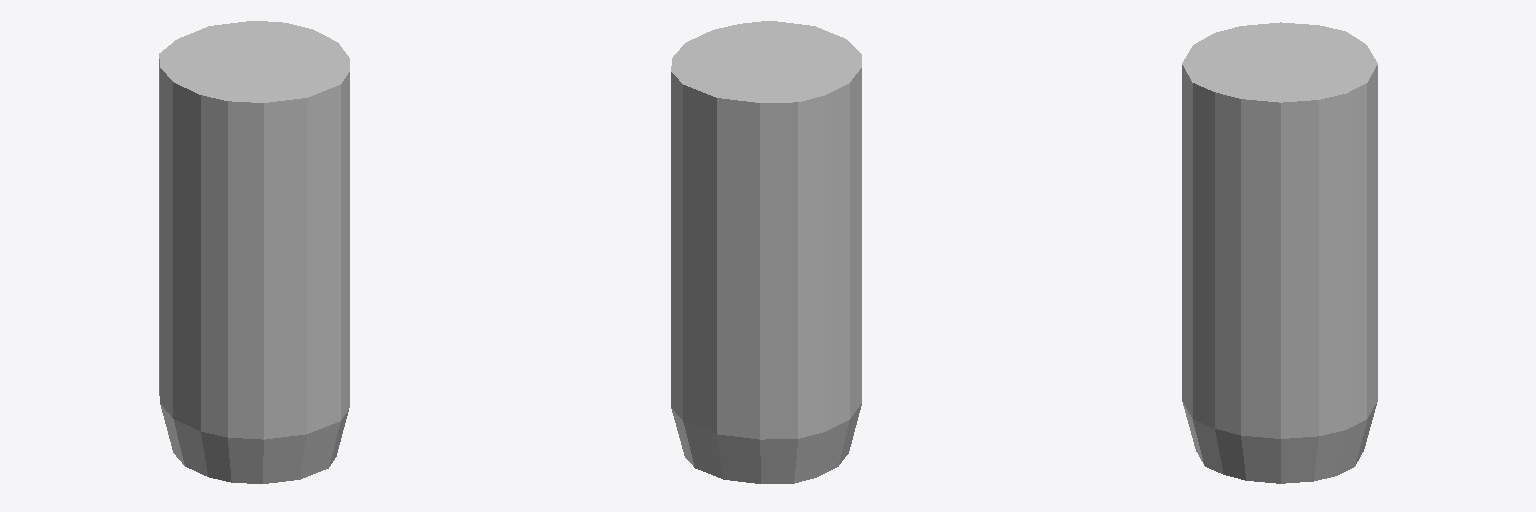
Rendered from trunk.obj.
3 views of the same model, side by side, from view 1: azimuth 30°, elevation 25°; view 2: azimuth 150°, elevation 25°; view 3: azimuth 270°, elevation 25° (orthographic).
Visible parts, largest first — view 1: pCube1; view 2: pCube1; view 3: pCube1.
Part boxes in pixels (x1,y1,x2,y2): pCube1: (159,21,349,483); pCube1: (671,21,861,483); pCube1: (1182,22,1377,483).
Bounding box in the file's own units: 2.92 × 6.55 × 3.01.